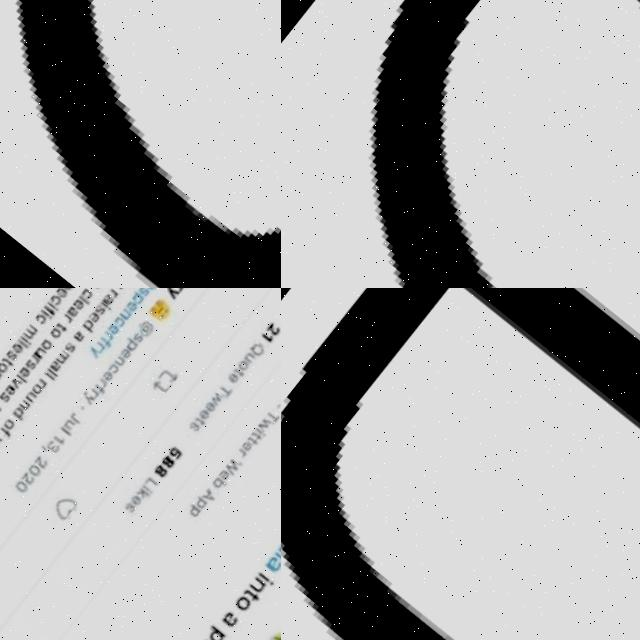0: (13, 478, 30, 495), (26, 463, 42, 478)
1: (260, 330, 275, 343), (51, 432, 66, 444)
2: (263, 321, 281, 339), (19, 469, 36, 486), (32, 455, 49, 470)
3: (45, 438, 61, 453)
5: (166, 445, 183, 462)
8: (157, 452, 177, 472), (151, 462, 170, 480)
A: (218, 610, 238, 630), (263, 553, 281, 573), (199, 486, 217, 504), (71, 329, 86, 344), (102, 292, 117, 306), (48, 358, 62, 372), (66, 305, 79, 318)
B: (211, 475, 228, 492)
C: (34, 312, 48, 326), (79, 288, 94, 300), (107, 362, 120, 375), (50, 293, 63, 306), (114, 316, 125, 327)
D: (281, 288, 640, 640), (0, 0, 281, 288), (81, 317, 98, 334), (11, 406, 27, 422), (275, 538, 281, 560)
E: (240, 439, 254, 453), (196, 408, 210, 422), (87, 310, 101, 324), (11, 341, 25, 355), (226, 371, 239, 384), (203, 400, 216, 413), (129, 493, 142, 506), (118, 346, 131, 359), (107, 323, 120, 336), (73, 298, 86, 311), (18, 365, 31, 378), (217, 468, 230, 480), (101, 370, 114, 382), (125, 300, 138, 312), (3, 384, 16, 396), (55, 288, 69, 299)
F: (92, 382, 107, 396), (99, 336, 114, 348), (43, 304, 58, 316), (0, 425, 13, 438)
I: (256, 571, 273, 586), (271, 549, 281, 565), (19, 335, 33, 346), (254, 427, 267, 438), (47, 301, 60, 312), (40, 309, 53, 320), (140, 484, 153, 494), (100, 301, 111, 311)
J: (67, 411, 84, 426)
K: (134, 486, 150, 502)
L: (143, 476, 157, 490), (43, 370, 57, 381), (46, 367, 59, 378), (15, 374, 28, 384), (18, 338, 31, 348), (59, 425, 71, 435), (79, 295, 91, 305)
M: (23, 324, 39, 341), (55, 348, 70, 364)
N: (246, 574, 267, 594), (120, 308, 133, 322), (115, 355, 126, 366), (19, 399, 30, 410), (0, 368, 3, 381)
O: (231, 593, 252, 613), (40, 336, 54, 351), (236, 358, 249, 371), (31, 383, 44, 396), (49, 326, 62, 339), (3, 419, 14, 430), (0, 362, 7, 373)
P: (202, 623, 225, 640), (129, 288, 146, 306), (185, 503, 201, 518), (124, 337, 140, 352), (192, 496, 207, 510)
Q: (247, 339, 267, 359)
R: (61, 312, 73, 324), (107, 288, 120, 299), (235, 447, 247, 458), (88, 387, 100, 398), (29, 353, 41, 364), (97, 378, 108, 388), (103, 330, 114, 340), (37, 378, 48, 388), (95, 340, 105, 350), (173, 288, 184, 292)
S: (63, 340, 77, 354), (189, 420, 202, 433), (123, 500, 136, 513), (23, 358, 36, 371), (131, 332, 145, 344), (0, 391, 11, 404), (95, 304, 106, 315), (6, 351, 17, 362), (138, 288, 150, 296)
T: (241, 586, 260, 604), (217, 382, 234, 400), (263, 408, 281, 424), (192, 415, 208, 428), (245, 434, 260, 447), (250, 429, 263, 442), (232, 366, 245, 378), (55, 322, 68, 334), (2, 356, 15, 368)
U: (242, 350, 256, 364), (25, 390, 38, 403), (34, 345, 47, 358), (63, 419, 75, 430)
V: (11, 378, 22, 388)
W: (221, 454, 244, 476), (207, 390, 224, 407), (257, 416, 273, 432)
Y: (80, 390, 96, 406), (163, 288, 181, 301), (86, 344, 102, 358)
